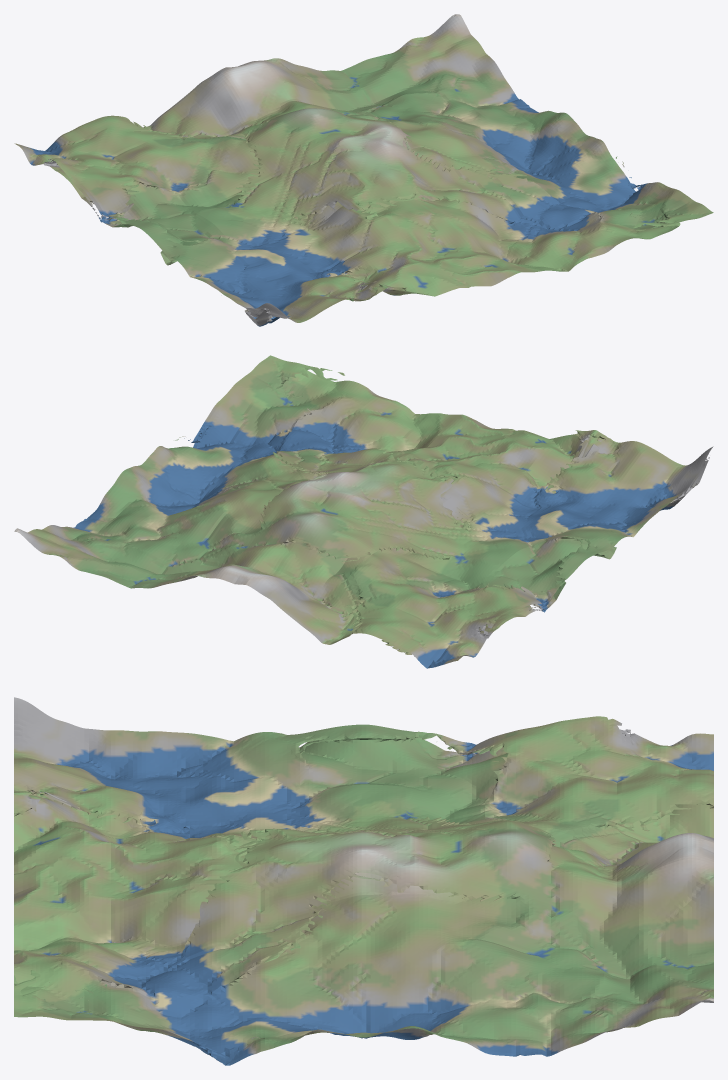
Rendered from terrain-generator-export-2-caves-hd.glb.
3 renders of one model, top to bottom at view 1: azimuth 30°, elevation 25°; view 2: azimuth 150°, elevation 25°; view 3: azimuth 270°, elevation 25°, orthographic. The views are drawn at different scales.
Size of the model in its own units: 1200 by 169 by 1200.
